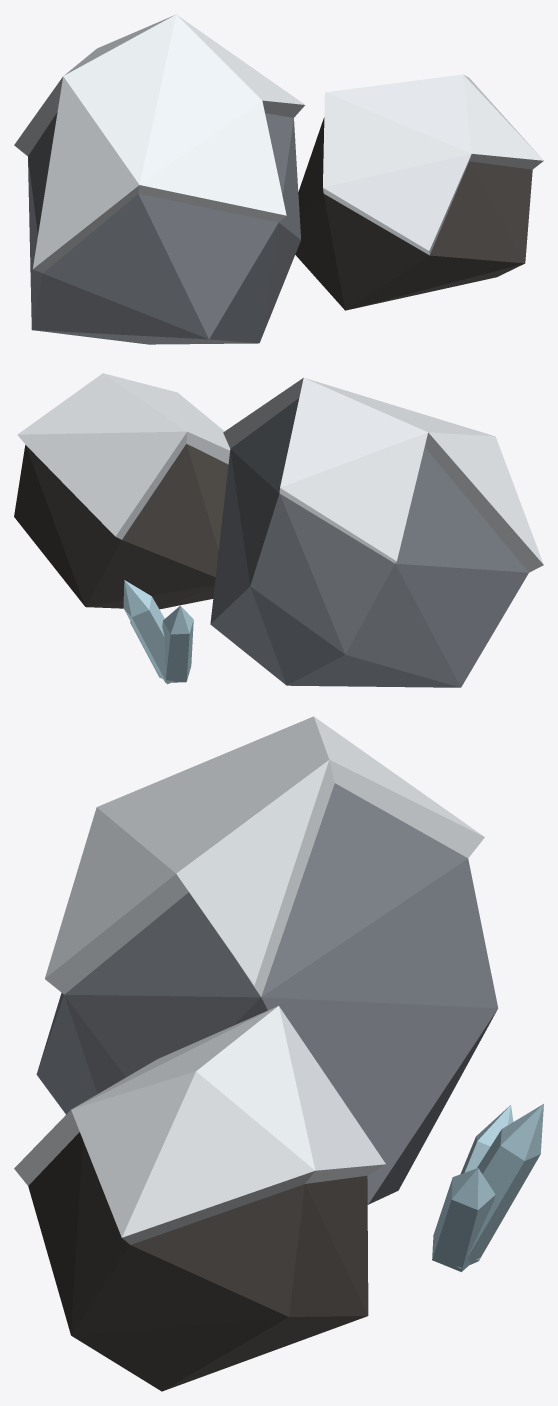
File: rocher_toundra_2.glb
The picture shows the model from 3 angles, top to bottom: view 1: azimuth 30°, elevation 25°; view 2: azimuth 150°, elevation 25°; view 3: azimuth 270°, elevation 25°; orthographic projection. The views are drawn at different scales.
Parts seen in each view (by area): view 1: neige_neige.006, roche_granite.006, roche_pierre_sombre.010; view 2: roche_granite.006, neige_neige.006, roche_pierre_sombre.010, glace_glace.002; view 3: neige_neige.006, roche_granite.006, roche_pierre_sombre.010, glace_glace.002.
Boxes of the visible parts, bbox=[...] form: neige_neige.006: bbox=[14, 14, 543, 273]; roche_granite.006: bbox=[28, 112, 300, 344]; roche_pierre_sombre.010: bbox=[295, 117, 532, 310]; roche_granite.006: bbox=[210, 398, 528, 687]; neige_neige.006: bbox=[17, 373, 543, 572]; roche_pierre_sombre.010: bbox=[14, 444, 228, 609]; glace_glace.002: bbox=[123, 580, 193, 684]; neige_neige.006: bbox=[14, 716, 484, 1244]; roche_granite.006: bbox=[36, 783, 498, 1204]; roche_pierre_sombre.010: bbox=[28, 1132, 368, 1391]; glace_glace.002: bbox=[432, 1104, 543, 1271].
Size of the model in its own units: 0.9504 by 0.5351 by 0.5856.
